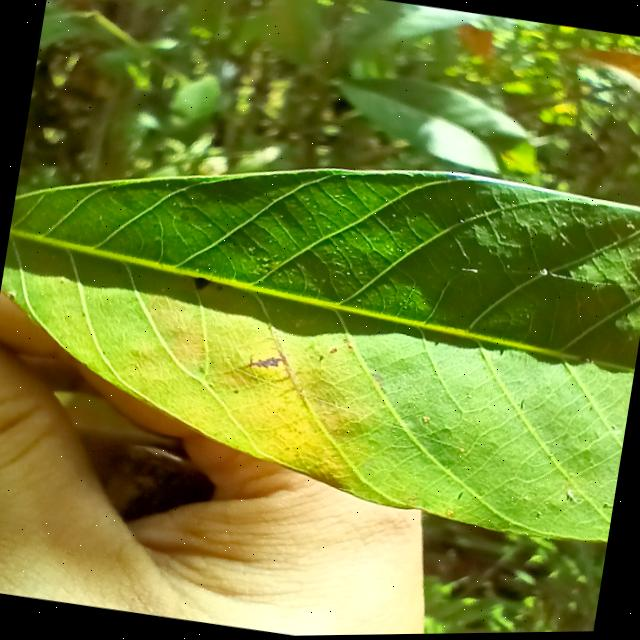Corynespora: (246, 347, 289, 374)
